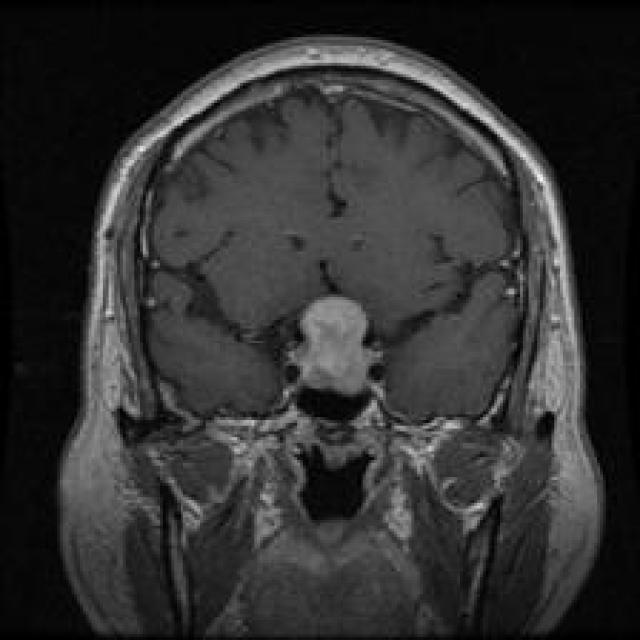pituitary_tumor: (261, 285, 402, 423)
